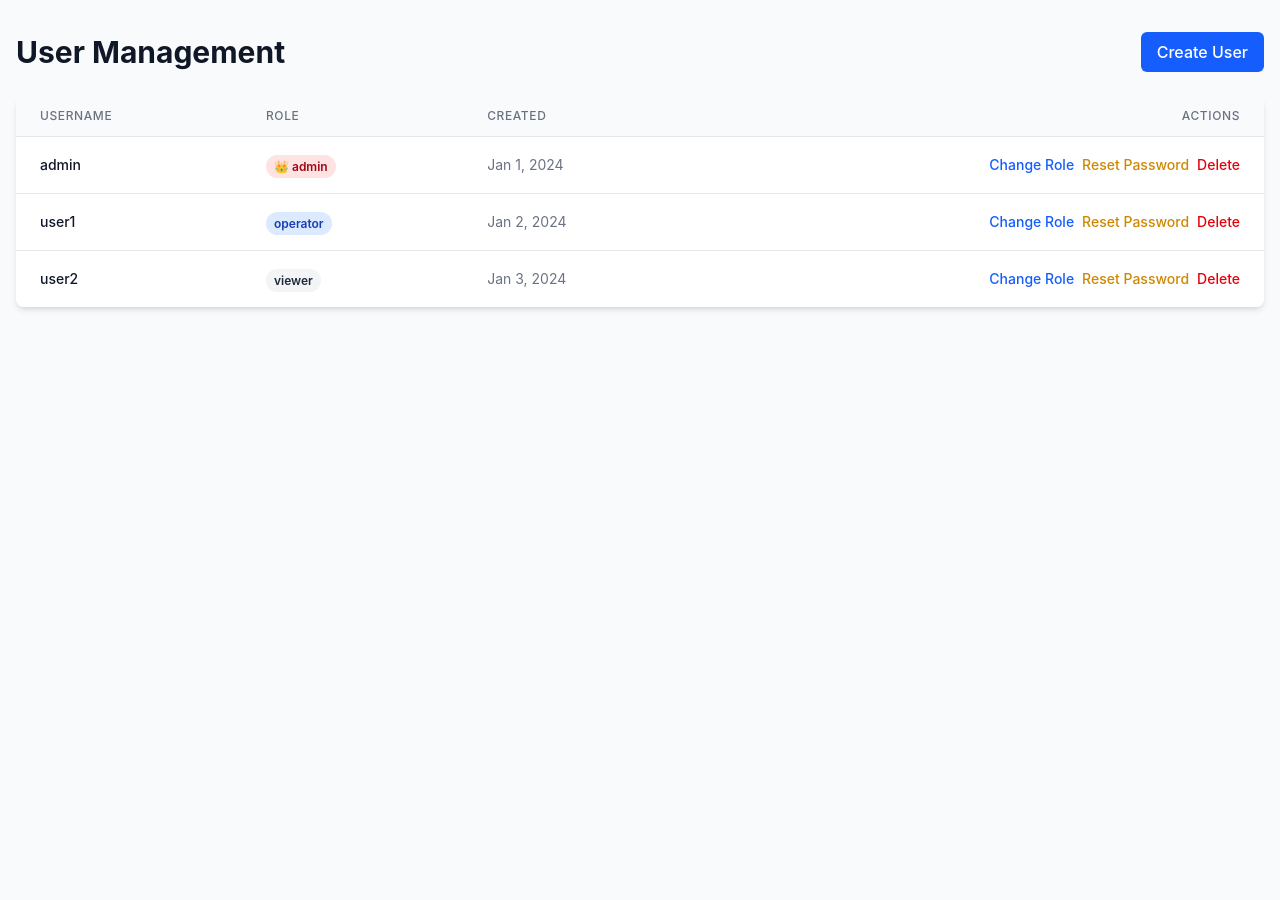
UsersPage › Change Role Flow › should display error message if role change fails
The width and height of the screenshot is (1280, 900).
expect the text "admin" is shown: met, box [40,156,81,173]
Click the button "Change Role" in the row of "Jan 1, 2024" at (1032, 165), box [989,155,1074,175]
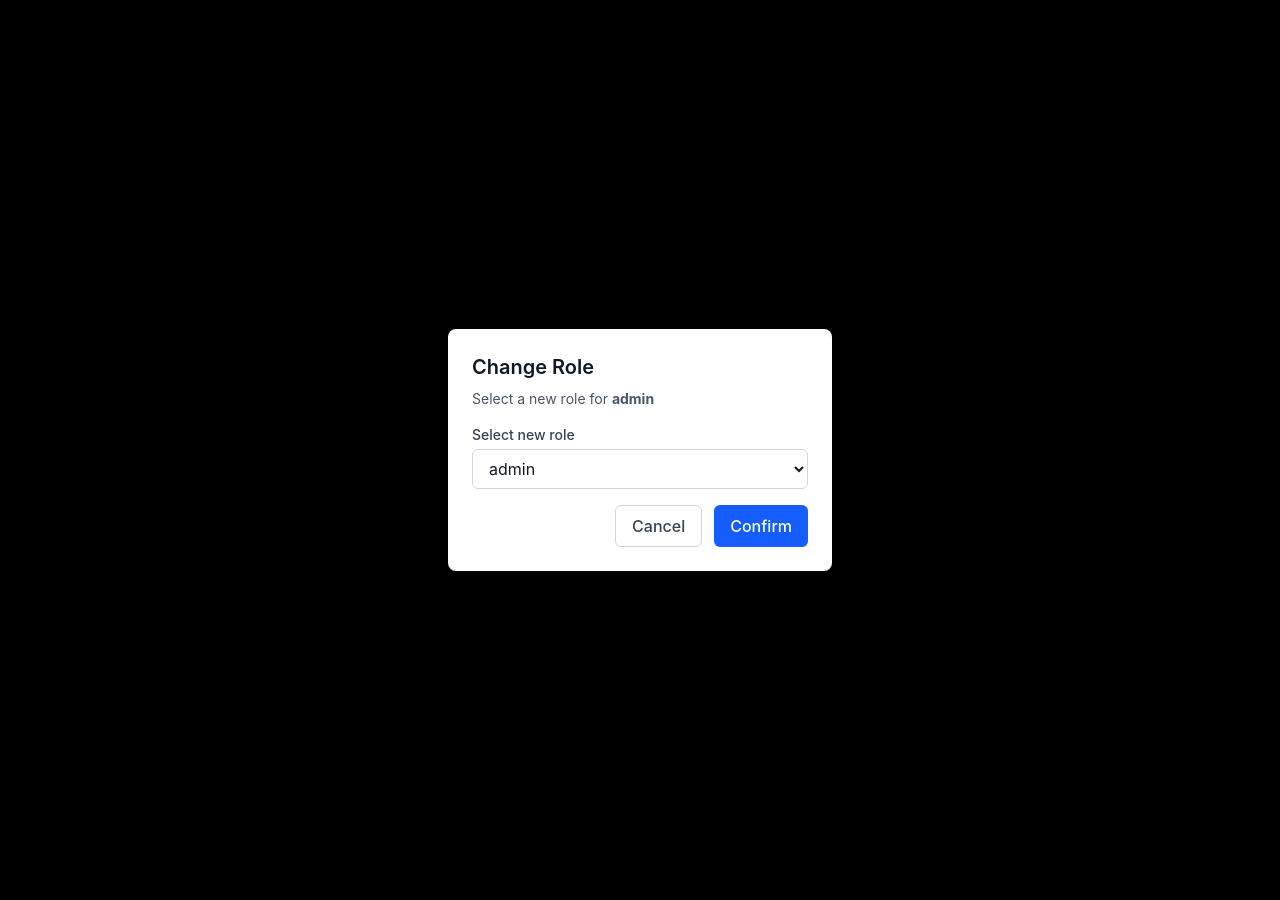
Select "operator" in the dropdown labelled "Select new role" at (640, 469), box [472,449,808,489]
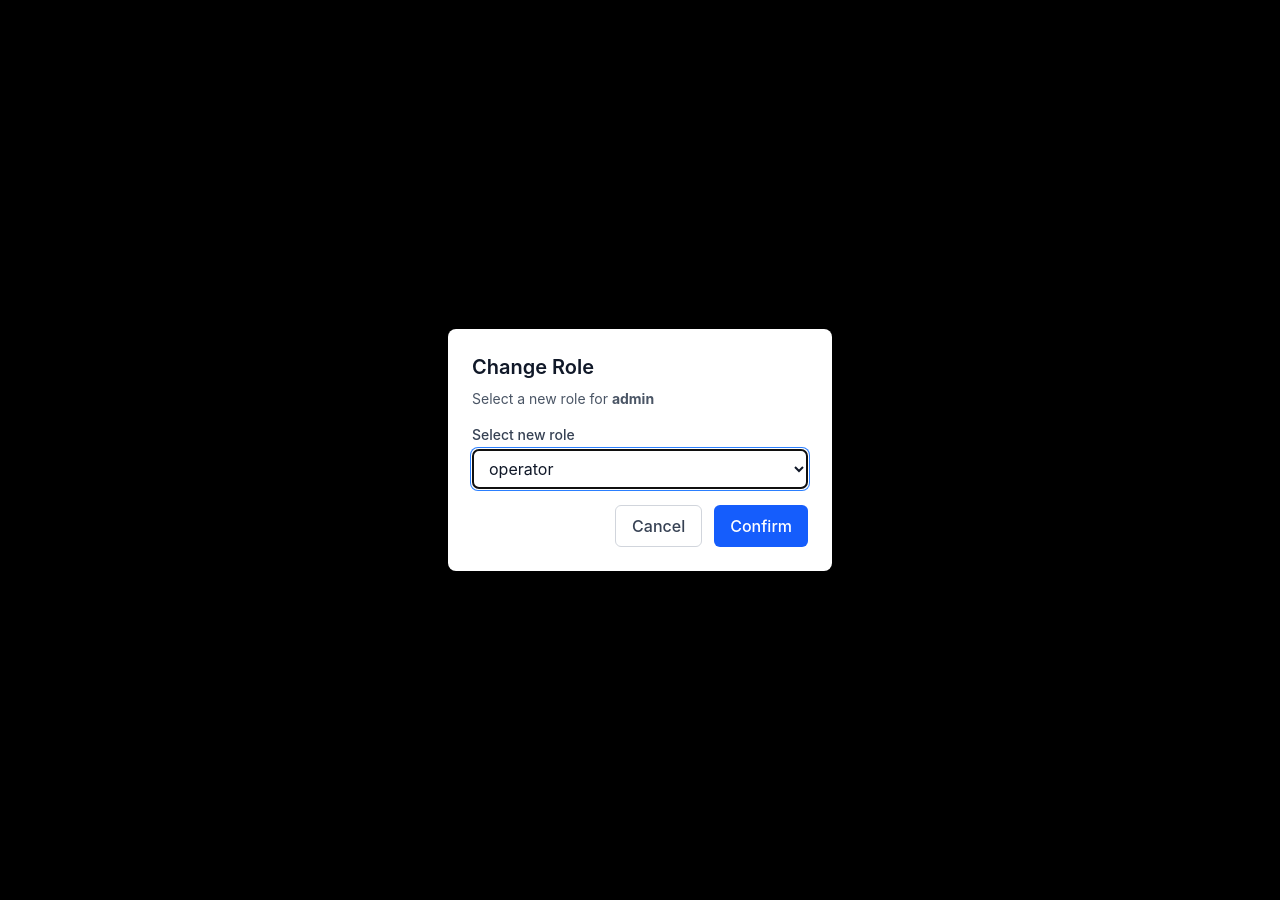
Click the button "Confirm" at (761, 526), box [714,505,808,547]
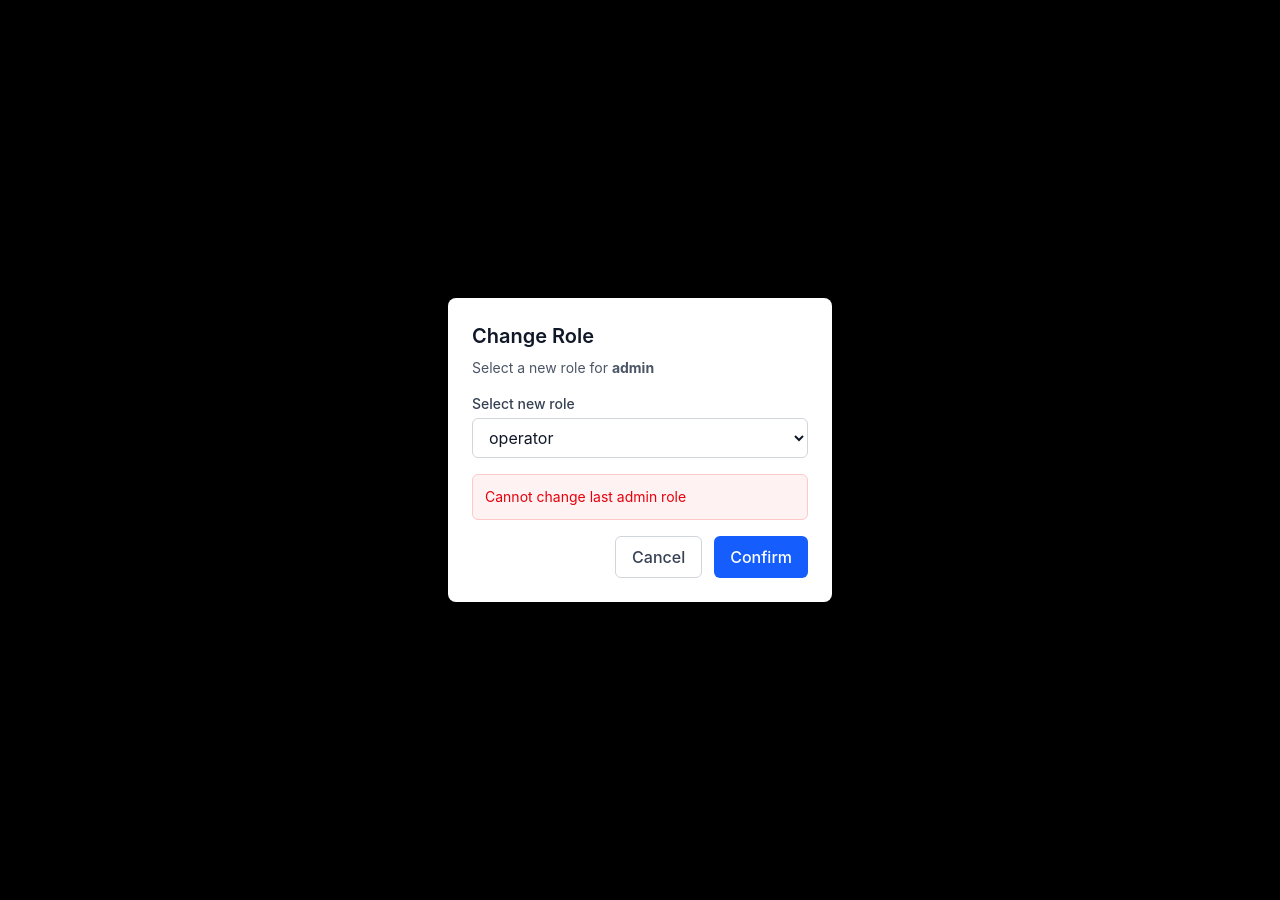
expect the text "Cannot change last admin role" is shown: met, box [485,488,686,505]
